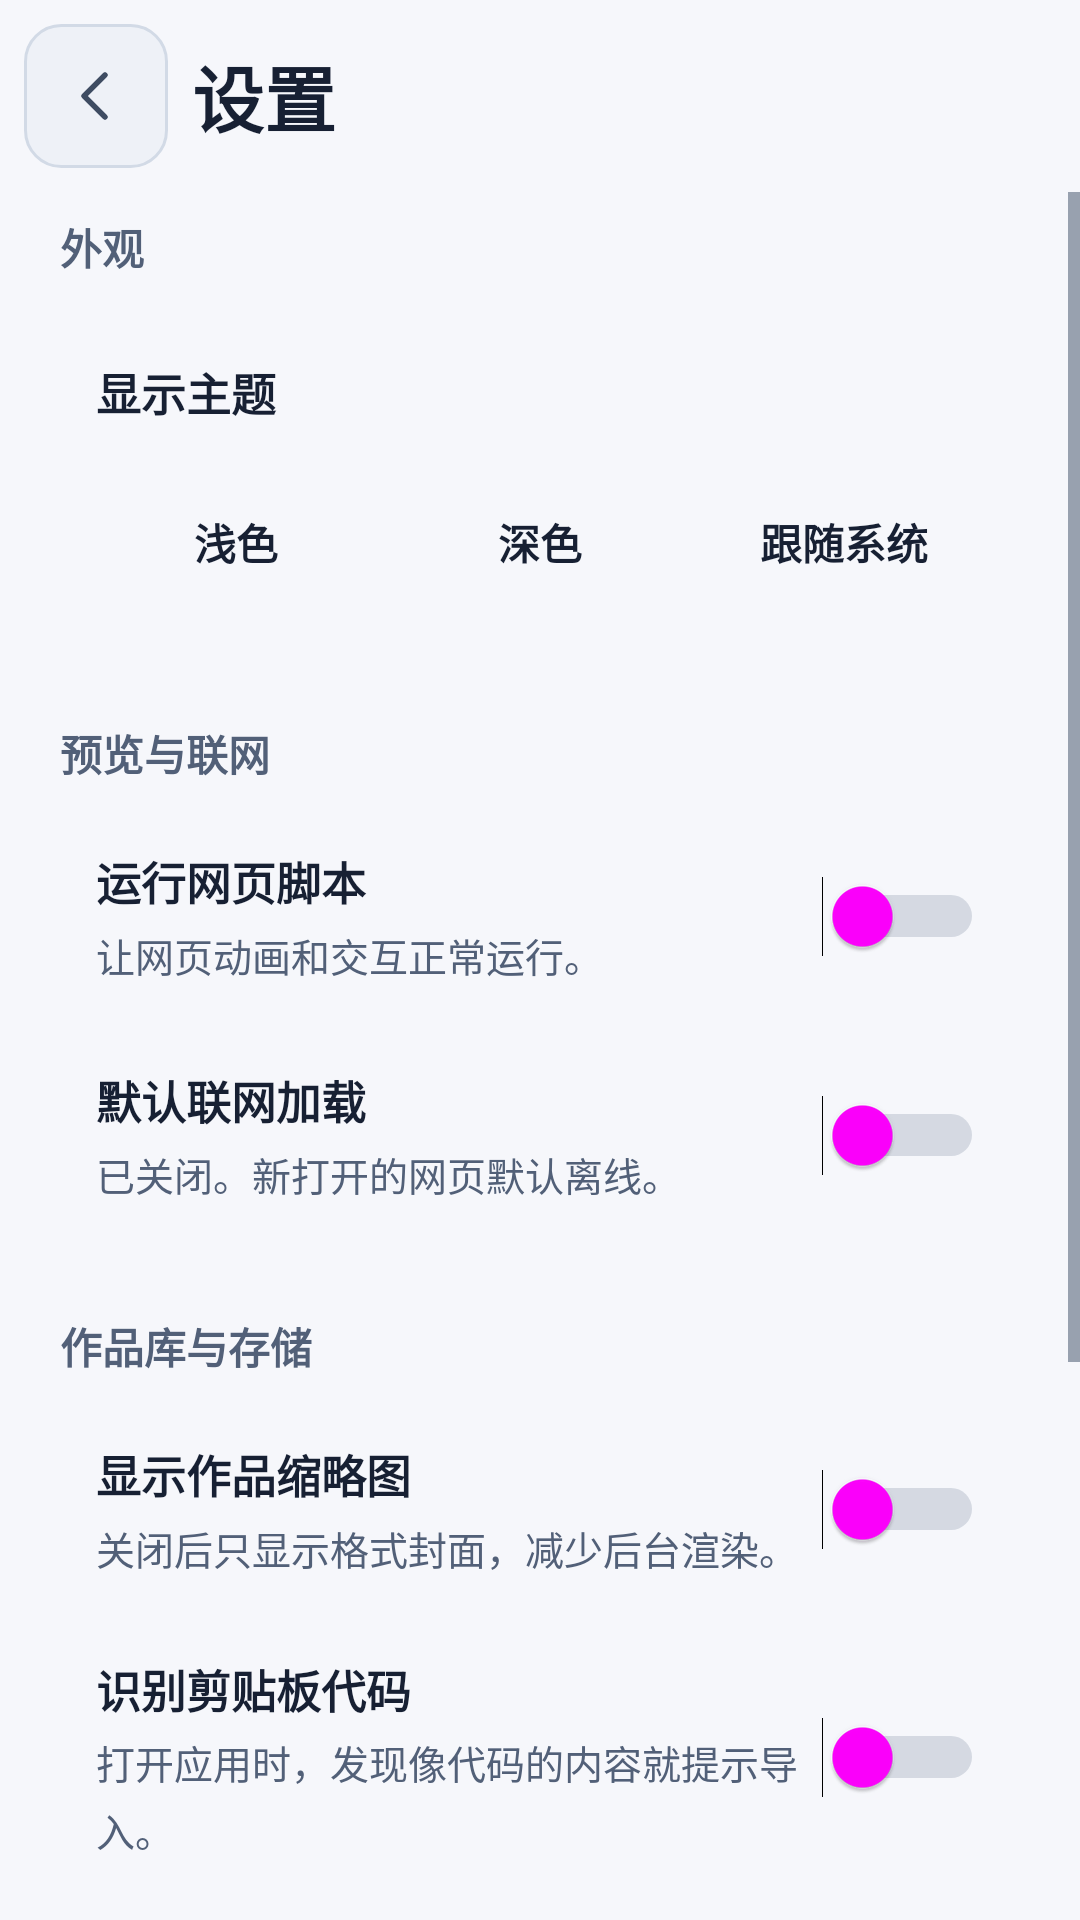

Where icons sit on this 1080x1920 app screen, as (x1, y1, x2, y2):
返回: (24, 24, 168, 168)
